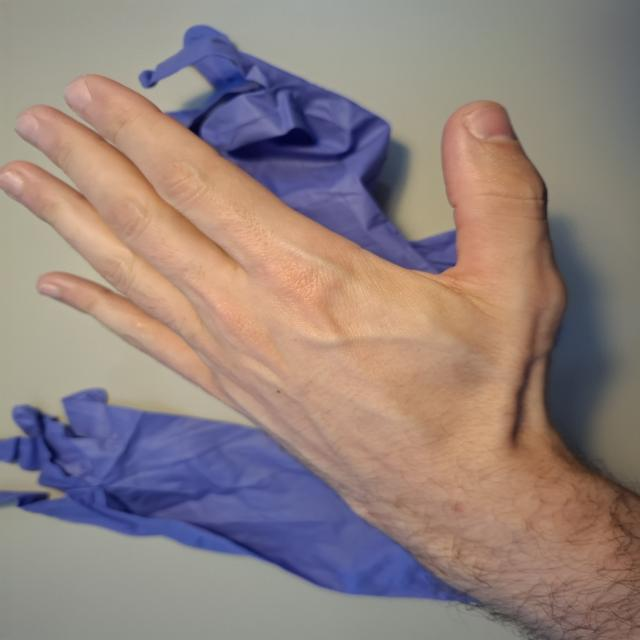glove_off: (0, 69, 581, 522)
